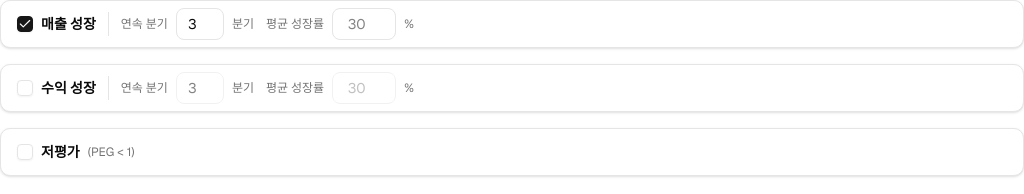
GrowthFilterControls › 잘못된 분기 수 입력 시 기본값 복원
Type "10" into the number field with placeholder "3" in the row of "매출 성장".
click(200, 24); type("10")  # box [176,8,224,40]
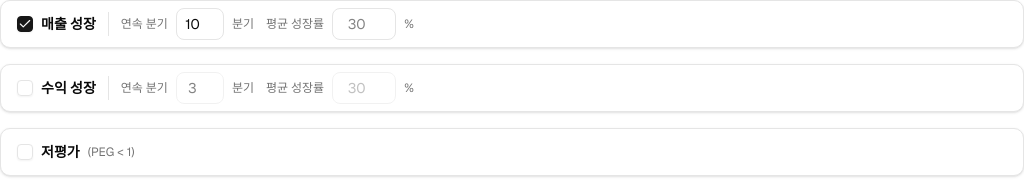
Leave the number field with placeholder "3" in the row of "매출 성장", box [176,8,224,40]
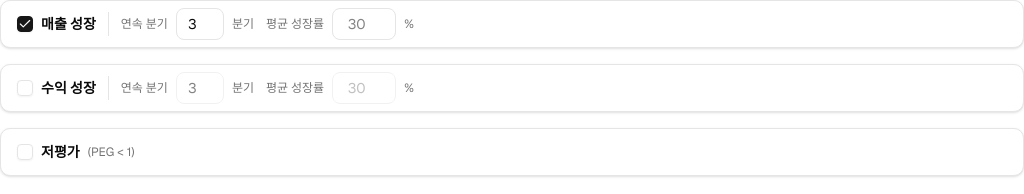
Expected: the number field with placeholder "3" in the row of "매출 성장" holds "3", [176,8,224,40]
